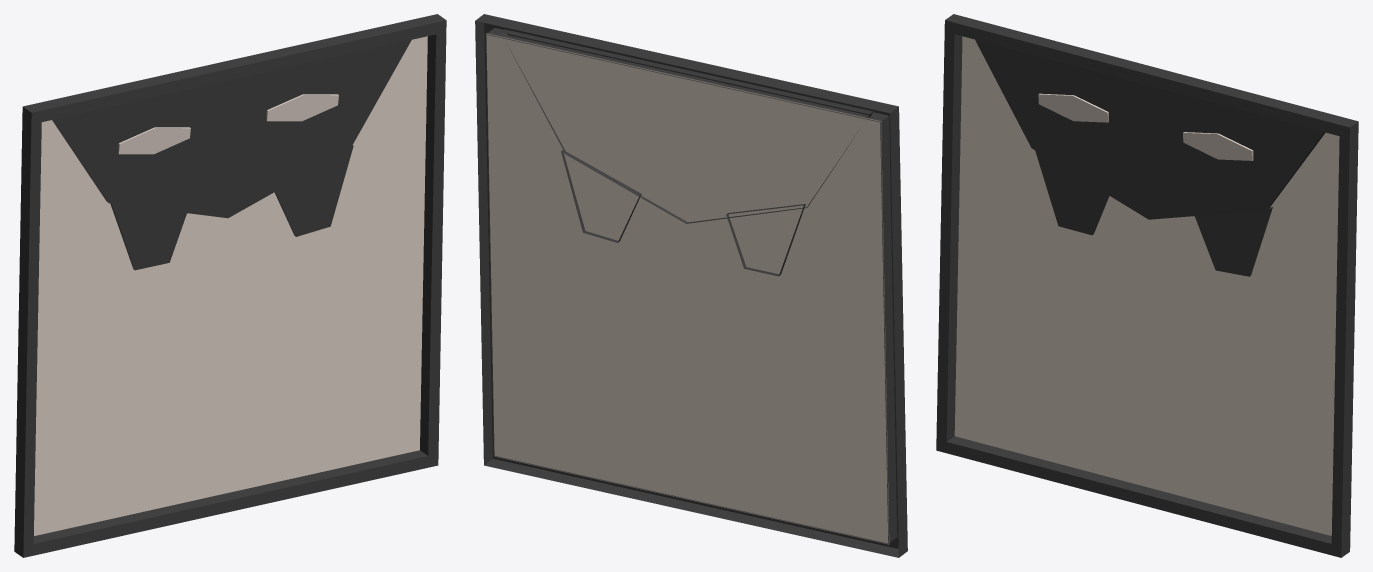
Rendered from Picture_21.fbx.
3 views of the same model, side by side, from view 1: azimuth 30°, elevation 25°; view 2: azimuth 150°, elevation 25°; view 3: azimuth 330°, elevation 25° (orthographic). The views are drawn at different scales.
Parts seen in each view (by area): view 1: Picture_21; view 2: Picture_21; view 3: Picture_21.
Part boxes in pixels (bbox=[...]): Picture_21: bbox=[14, 14, 446, 557]; Picture_21: bbox=[475, 14, 907, 557]; Picture_21: bbox=[936, 14, 1358, 557].
Bounding box in the file's own units: 80.95 × 3.61 × 82.52.
